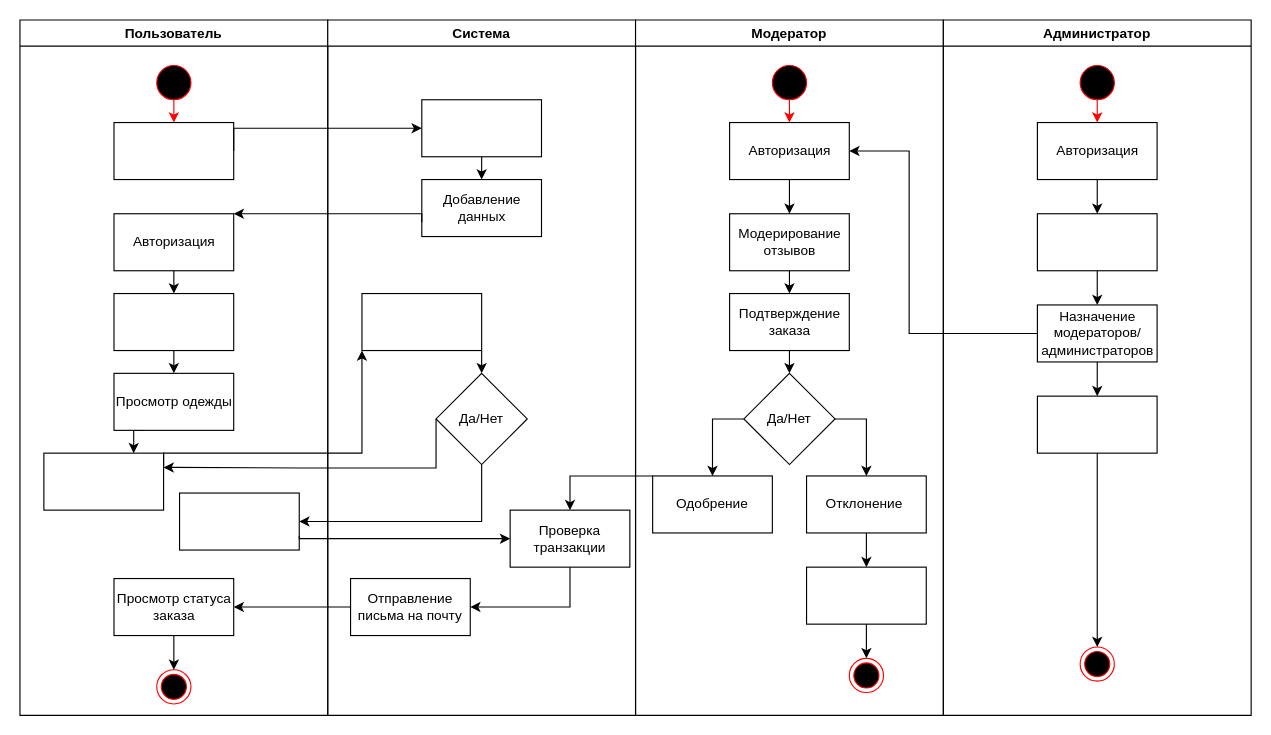
The diagram is 1271 pixels wide and 735 high, and some of its shapes have lost their labels. The centre of each missing label's shape, as x and y in pixels:
"Внесение предоплаты" goes at (x=238, y=521).
"Одобрение заказа" goes at (x=421, y=321).
"Оформление заказа" goes at (x=103, y=481).
"Поиск одежды по фильтрам" goes at (x=173, y=321).
"Получение данных" goes at (x=481, y=128).
"Просмотров отчетов" goes at (x=865, y=595).
"Работа с админ панелью" goes at (x=1096, y=424).
"Регистрация" goes at (x=173, y=150).
"Управление пользователями" goes at (x=1096, y=242).
